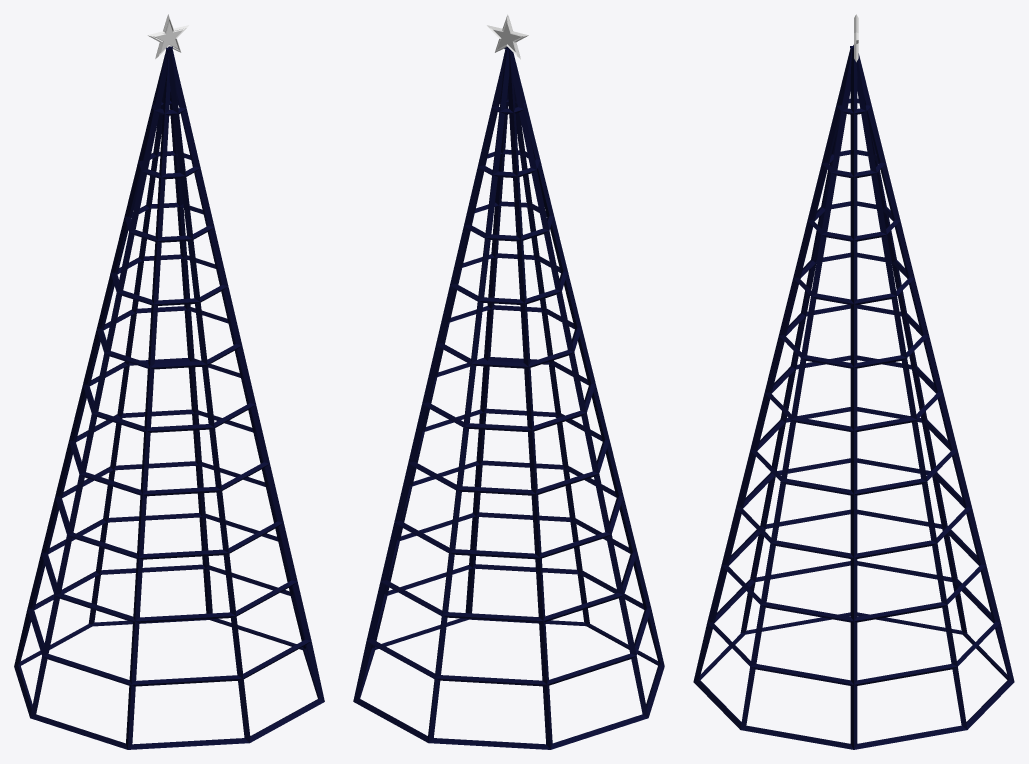
Rendered from ArbolHueco.fbx.
The picture shows the model from 3 angles, left to right: view 1: azimuth 30°, elevation 25°; view 2: azimuth 150°, elevation 25°; view 3: azimuth 270°, elevation 25°; orthographic projection.
Parts seen in each view (by area): view 1: Cylinder; view 2: Cylinder; view 3: Cylinder.
Boxes of the visible parts, x1,y1,x2,y2 form: Cylinder: (14,46,324,749); Cylinder: (353,46,664,749); Cylinder: (693,45,1014,749).
Size of the model in its own units: 1889 by 4336 by 1889.
